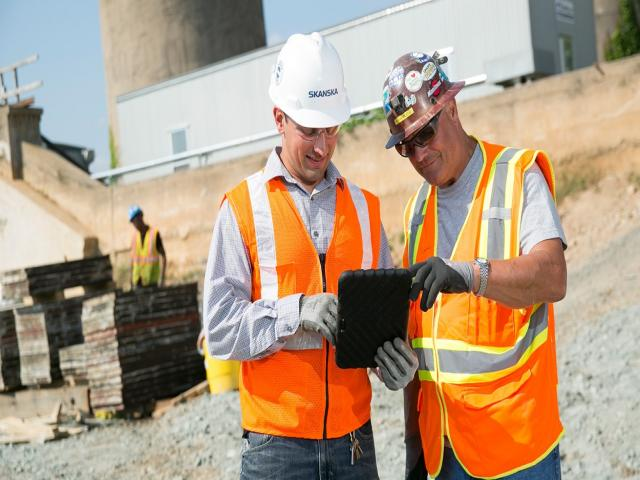Helmet: (374, 44, 468, 160), (266, 25, 356, 142)
